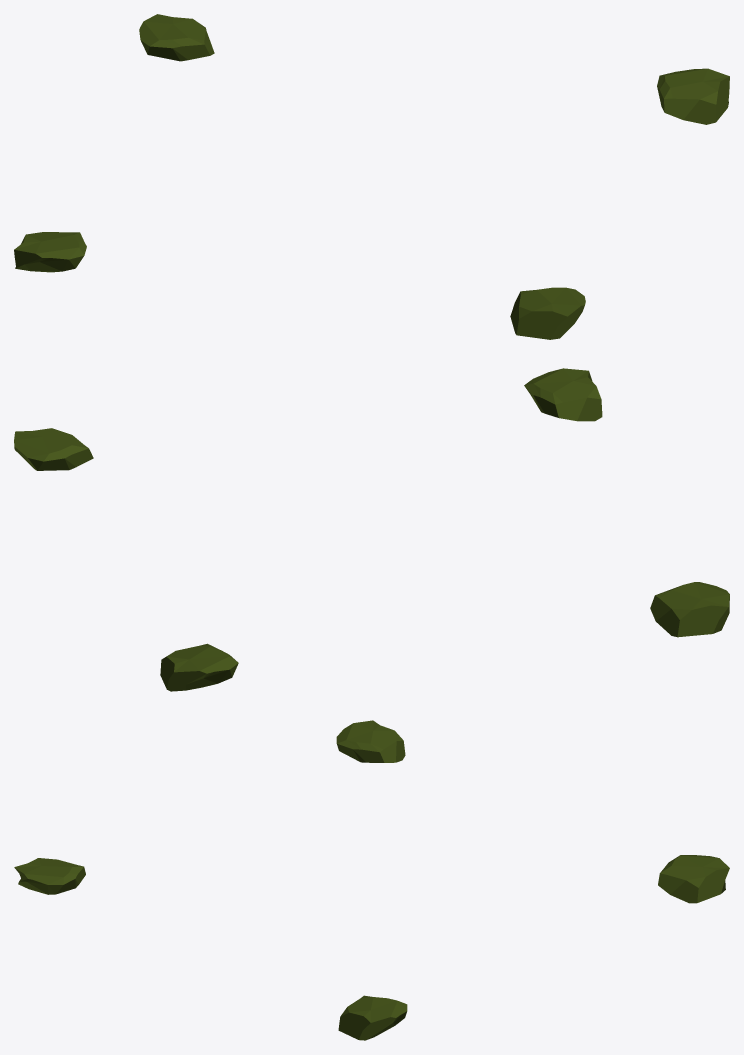
File: stone3-s1 1.fbx
3 views of the same model, one above another, from view 1: azimuth 30°, elevation 25°; view 2: azimuth 150°, elevation 25°; view 3: azimuth 270°, elevation 25° (orthographic). The views are drawn at different scales.
Visible parts, largest first — view 1: Cube.048, Cube.021, Cube.051, Cube.054; view 2: Cube.054, Cube.021, Cube.051, Cube.048; view 3: Cube.051, Cube.054, Cube.048, Cube.021.
Part boxes in pixels (x1,y1,x2,y2): Cube.048: (657, 68, 729, 124); Cube.021: (510, 287, 585, 339); Cube.051: (139, 14, 214, 61); Cube.054: (14, 232, 86, 272); Cube.054: (650, 582, 729, 637); Cube.021: (524, 368, 602, 421); Cube.051: (160, 643, 238, 691); Cube.048: (14, 428, 93, 470); Cube.051: (658, 855, 729, 903); Cube.054: (336, 720, 405, 762); Cube.048: (338, 995, 407, 1040); Cube.021: (14, 858, 85, 894).
Size of the model in its own units: 157 by 6.49 by 157.
